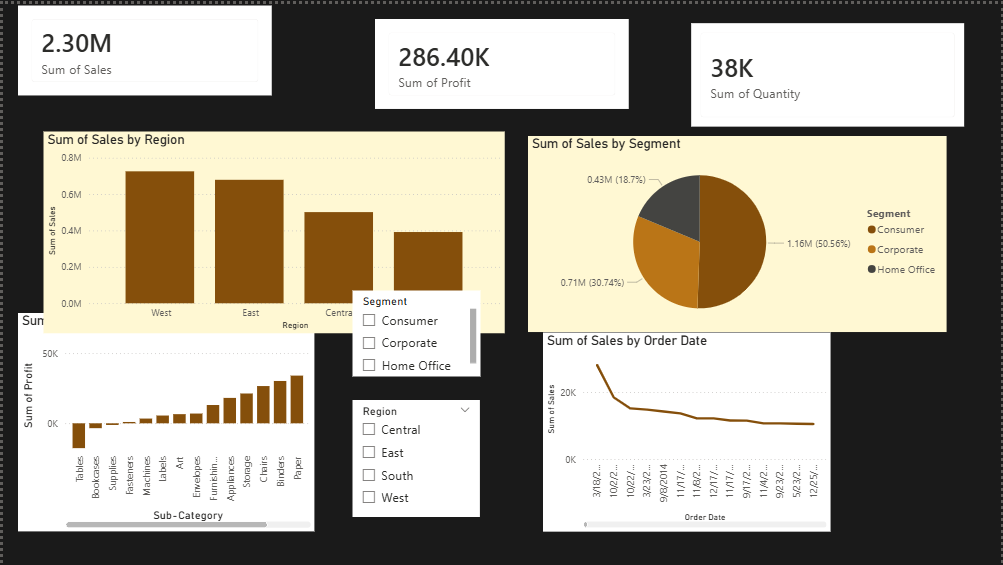

The dashboard page shown, as its layout file describes it:
{"tool":"powerbi","page":{"name":"Page 1","canvas":[1280,720],"ordinal":0},"visuals":[{"type":"lineStackedColumnComboChart","fields":{"Category":["Sample - Superstore.Sub-Category"],"Y":["Sum(Sample - Superstore.Profit)"]},"box":[20,396.7,380,280],"z":0},{"type":"cardVisual","fields":{"Data":["Sum(Sample - Superstore.Sales)"]},"box":[20,1.7,325,115],"z":1000},{"type":"cardVisual","fields":{"Data":["Sum(Sample - Superstore.Profit)"]},"box":[476.7,18.3,325,115],"z":2000},{"type":"cardVisual","fields":{"Data":["Sum(Sample - Superstore.Quantity)"]},"box":[876.7,18.3,360,143.3],"z":3000},{"type":"clusteredColumnChart","fields":{"Category":["Sample - Superstore.Region"],"Y":["Sum(Sample - Superstore.Sales)"]},"box":[51,164.4,591.5,258.9],"z":4000},{"type":"pieChart","fields":{"Category":["Sample - Superstore.Segment"],"Y":["Sum(Sample - Superstore.Sales)"]},"box":[672.8,170.1,536.7,251.3],"z":5000},{"type":"lineChart","fields":{"Category":["Sample - Superstore.Order Date"],"Y":["Sum(Sample - Superstore.Sales)"]},"box":[691.7,421.7,368.3,255],"z":6000},{"type":"slicer","fields":{"Values":["Sample - Superstore.Region"]},"box":[448.3,508.3,163.3,150],"z":7000},{"type":"slicer","fields":{"Values":["Sample - Superstore.Segment"]},"box":[448.3,366.7,163.3,110],"z":8000}]}

Visuals, with their boxes in screenshot pixels (x1, y1, x2, y2), scaled from the page's 1280x720 canvas onto the 1003x565 screenshot:
lineStackedColumnComboChart - Sample - Superstore.Sub-Category x Sum(Sample - Superstore.Profit): (16,311,313,531)
cardVisual - Sum(Sample - Superstore.Sales): (16,1,270,92)
cardVisual - Sum(Sample - Superstore.Profit): (374,14,628,105)
cardVisual - Sum(Sample - Superstore.Quantity): (687,14,969,127)
clusteredColumnChart - Sample - Superstore.Region x Sum(Sample - Superstore.Sales): (40,129,503,332)
pieChart - Sample - Superstore.Segment x Sum(Sample - Superstore.Sales): (527,133,948,331)
lineChart - Sample - Superstore.Order Date x Sum(Sample - Superstore.Sales): (542,331,831,531)
slicer - Sample - Superstore.Region: (351,399,479,517)
slicer - Sample - Superstore.Segment: (351,288,479,374)
